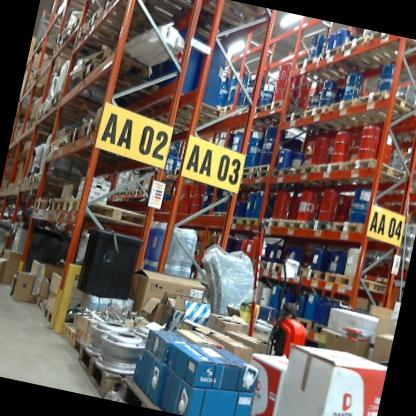pallet: (58, 179, 161, 239), (73, 53, 172, 108), (60, 330, 136, 401), (321, 36, 416, 88), (75, 40, 169, 89), (155, 79, 232, 137), (136, 100, 225, 146), (340, 149, 416, 201), (346, 27, 416, 82), (82, 3, 150, 57), (351, 80, 416, 136), (317, 262, 396, 305), (46, 308, 100, 365), (116, 373, 189, 415), (323, 91, 383, 141), (312, 156, 383, 195), (44, 34, 107, 76), (298, 44, 364, 84), (48, 19, 105, 63), (67, 18, 127, 59), (298, 95, 347, 143), (236, 99, 296, 137), (326, 213, 388, 246), (244, 253, 299, 285), (49, 90, 108, 119), (33, 289, 70, 333), (33, 101, 83, 133), (260, 88, 301, 126), (79, 111, 122, 146), (285, 49, 327, 80), (59, 2, 98, 32), (255, 205, 285, 236), (293, 156, 324, 185), (300, 209, 333, 236), (23, 190, 50, 221), (246, 153, 276, 179), (267, 160, 296, 185), (282, 108, 309, 133), (44, 191, 67, 220), (243, 167, 273, 189), (281, 209, 306, 235), (296, 266, 324, 288), (66, 119, 85, 150), (210, 202, 233, 227), (236, 209, 259, 228), (39, 134, 58, 157), (230, 170, 251, 188), (224, 207, 241, 227), (54, 132, 69, 153), (231, 161, 250, 177), (18, 171, 31, 193), (30, 170, 45, 188), (24, 168, 34, 187)
